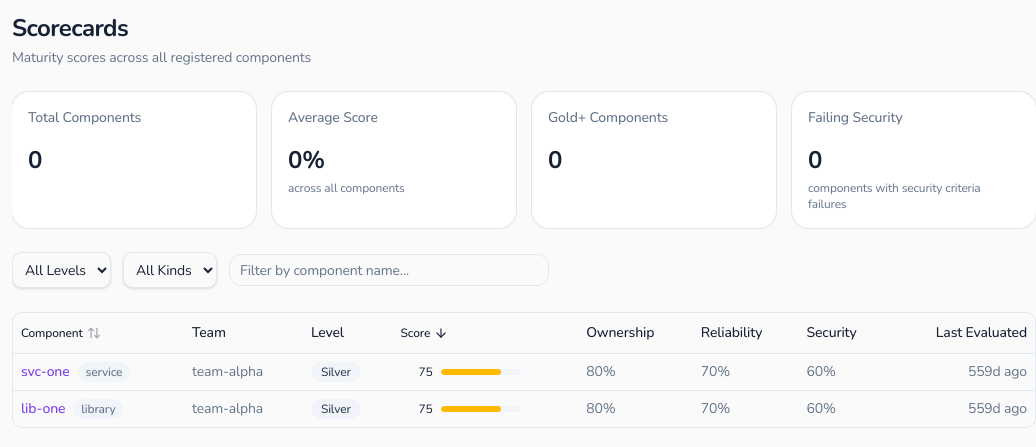
Test: ScorecardsClient › filters rows by component kind
Expected: the link "svc-one" is shown, [21, 362, 70, 380]
Select "service" in the dropdown named "Filter by kind" at (170, 270), box [123, 252, 217, 288]
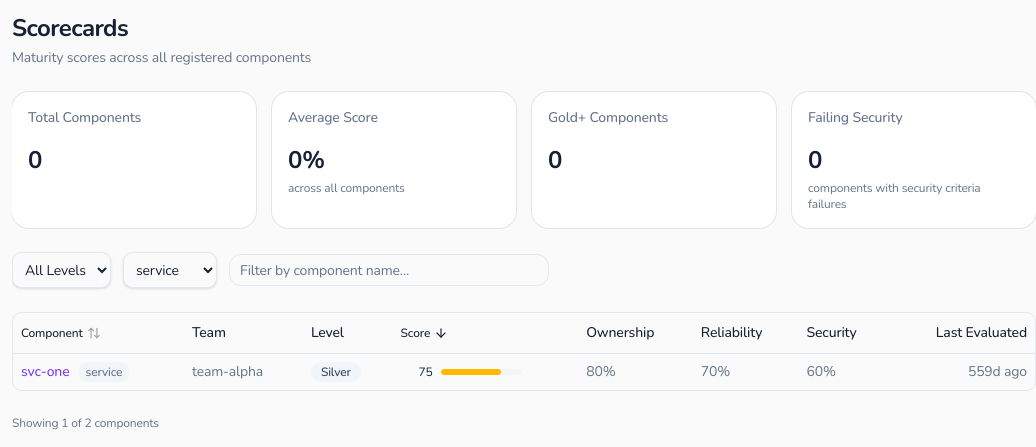
Expected: the link "svc-one" is shown, [21, 362, 70, 380]
Expected: the link "lib-one" is gone
